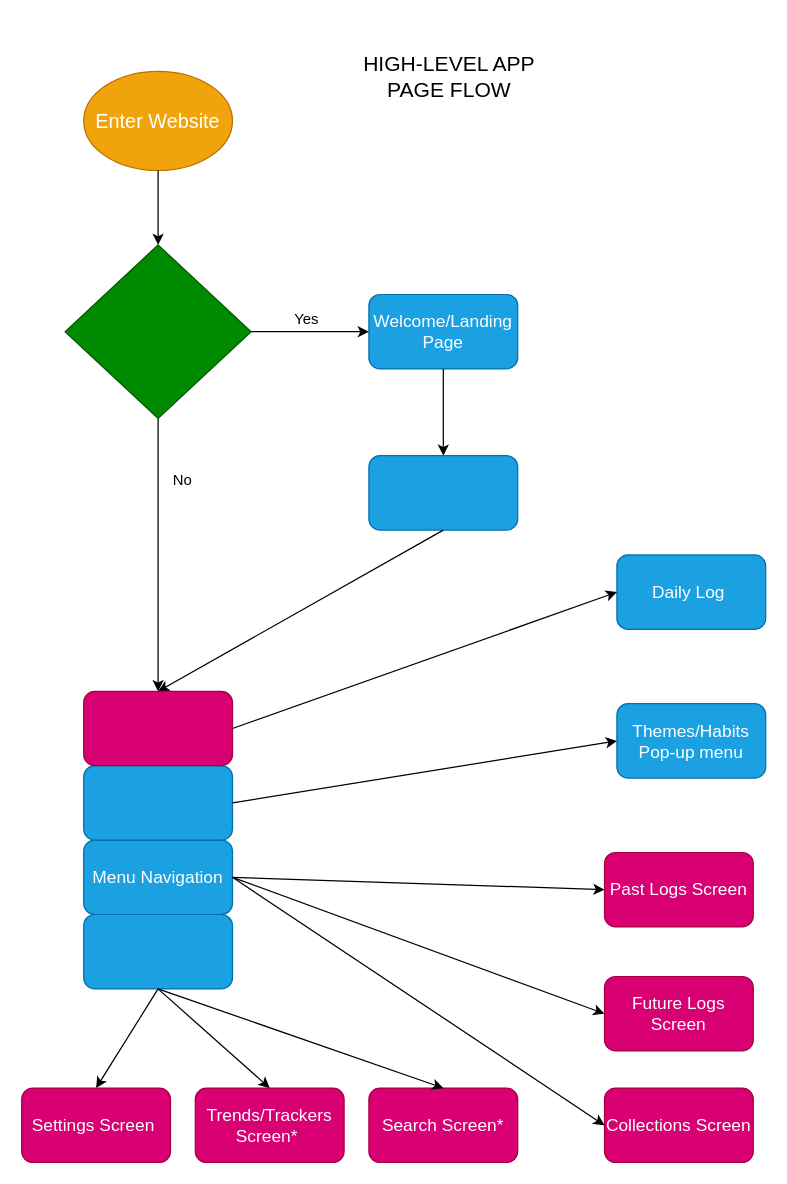
Image size: 787x1184. Some labels were removed from this diagram. Each missing label, with the centre of its shape:
"Choose Theme/Habits (Optional)" goes at pixel 157 802.
"Features" goes at pixel 157 951.
"First Time User (using localStorage/other API)" goes at pixel 157 331.
"Home Screen (Daily Log)" goes at pixel 157 728.
"Tutorial" goes at pixel 443 492.
